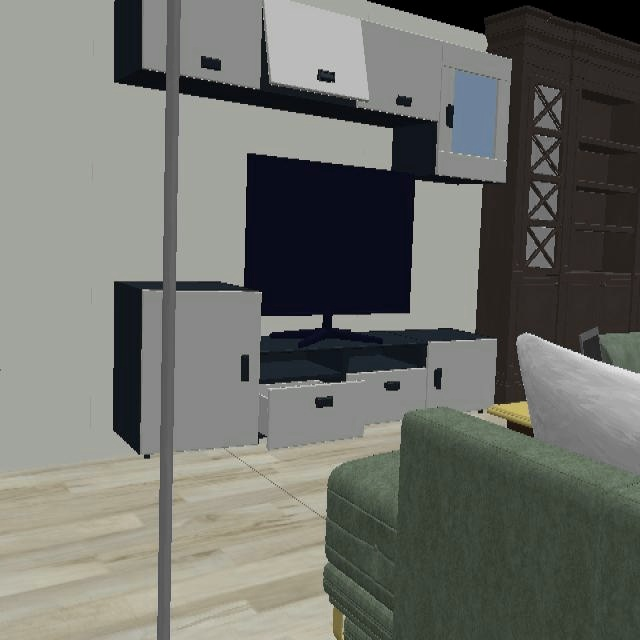bookshelf: (483, 7, 640, 404)
cabinet: (178, 0, 512, 185), (175, 285, 498, 452), (114, 283, 164, 459), (115, 0, 169, 91)
laptop: (579, 327, 602, 363)
monitor: (244, 153, 415, 348)
pillow: (515, 333, 640, 479)
sofa: (322, 407, 640, 640)
table: (475, 401, 530, 435)
